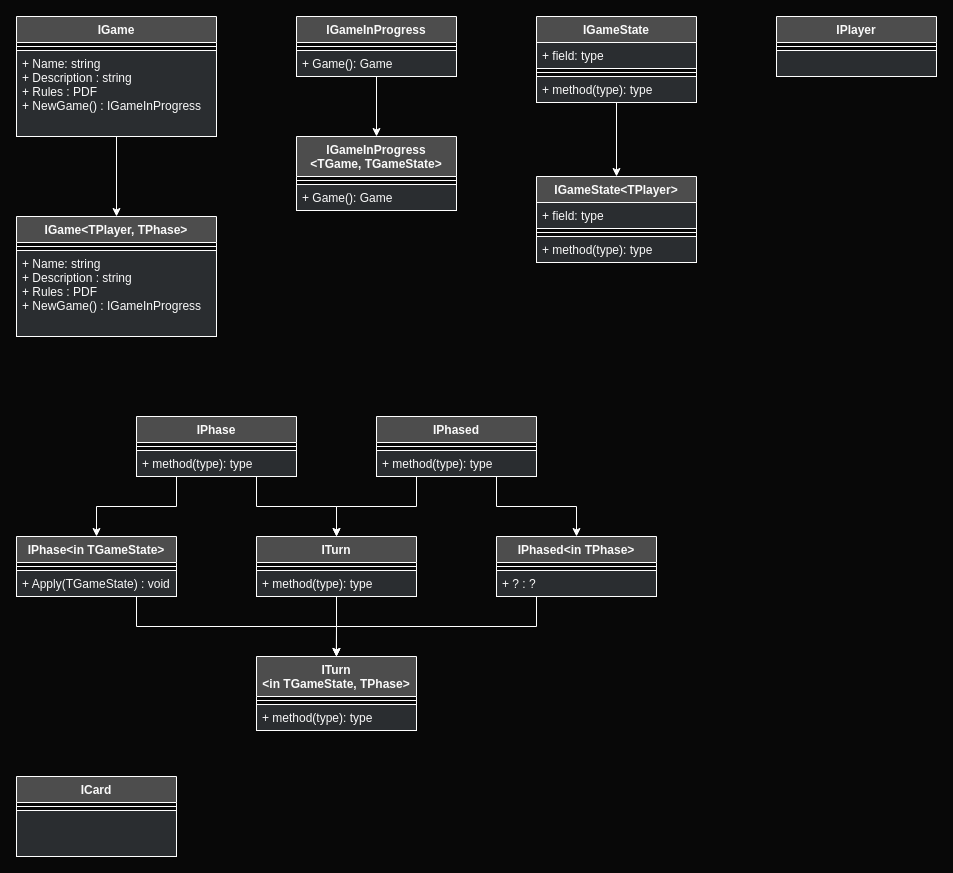
The diagram is 953 pixels wide and 873 high, and some of its shapes have lost their labels. The shapes that lost their labels are listed below. From the top down, each one's box as (x1, y1, x2, y2) in pixels, then its label:
(776, 50, 936, 76): + Name : string
(16, 810, 176, 856): + Name : string + Description : string
